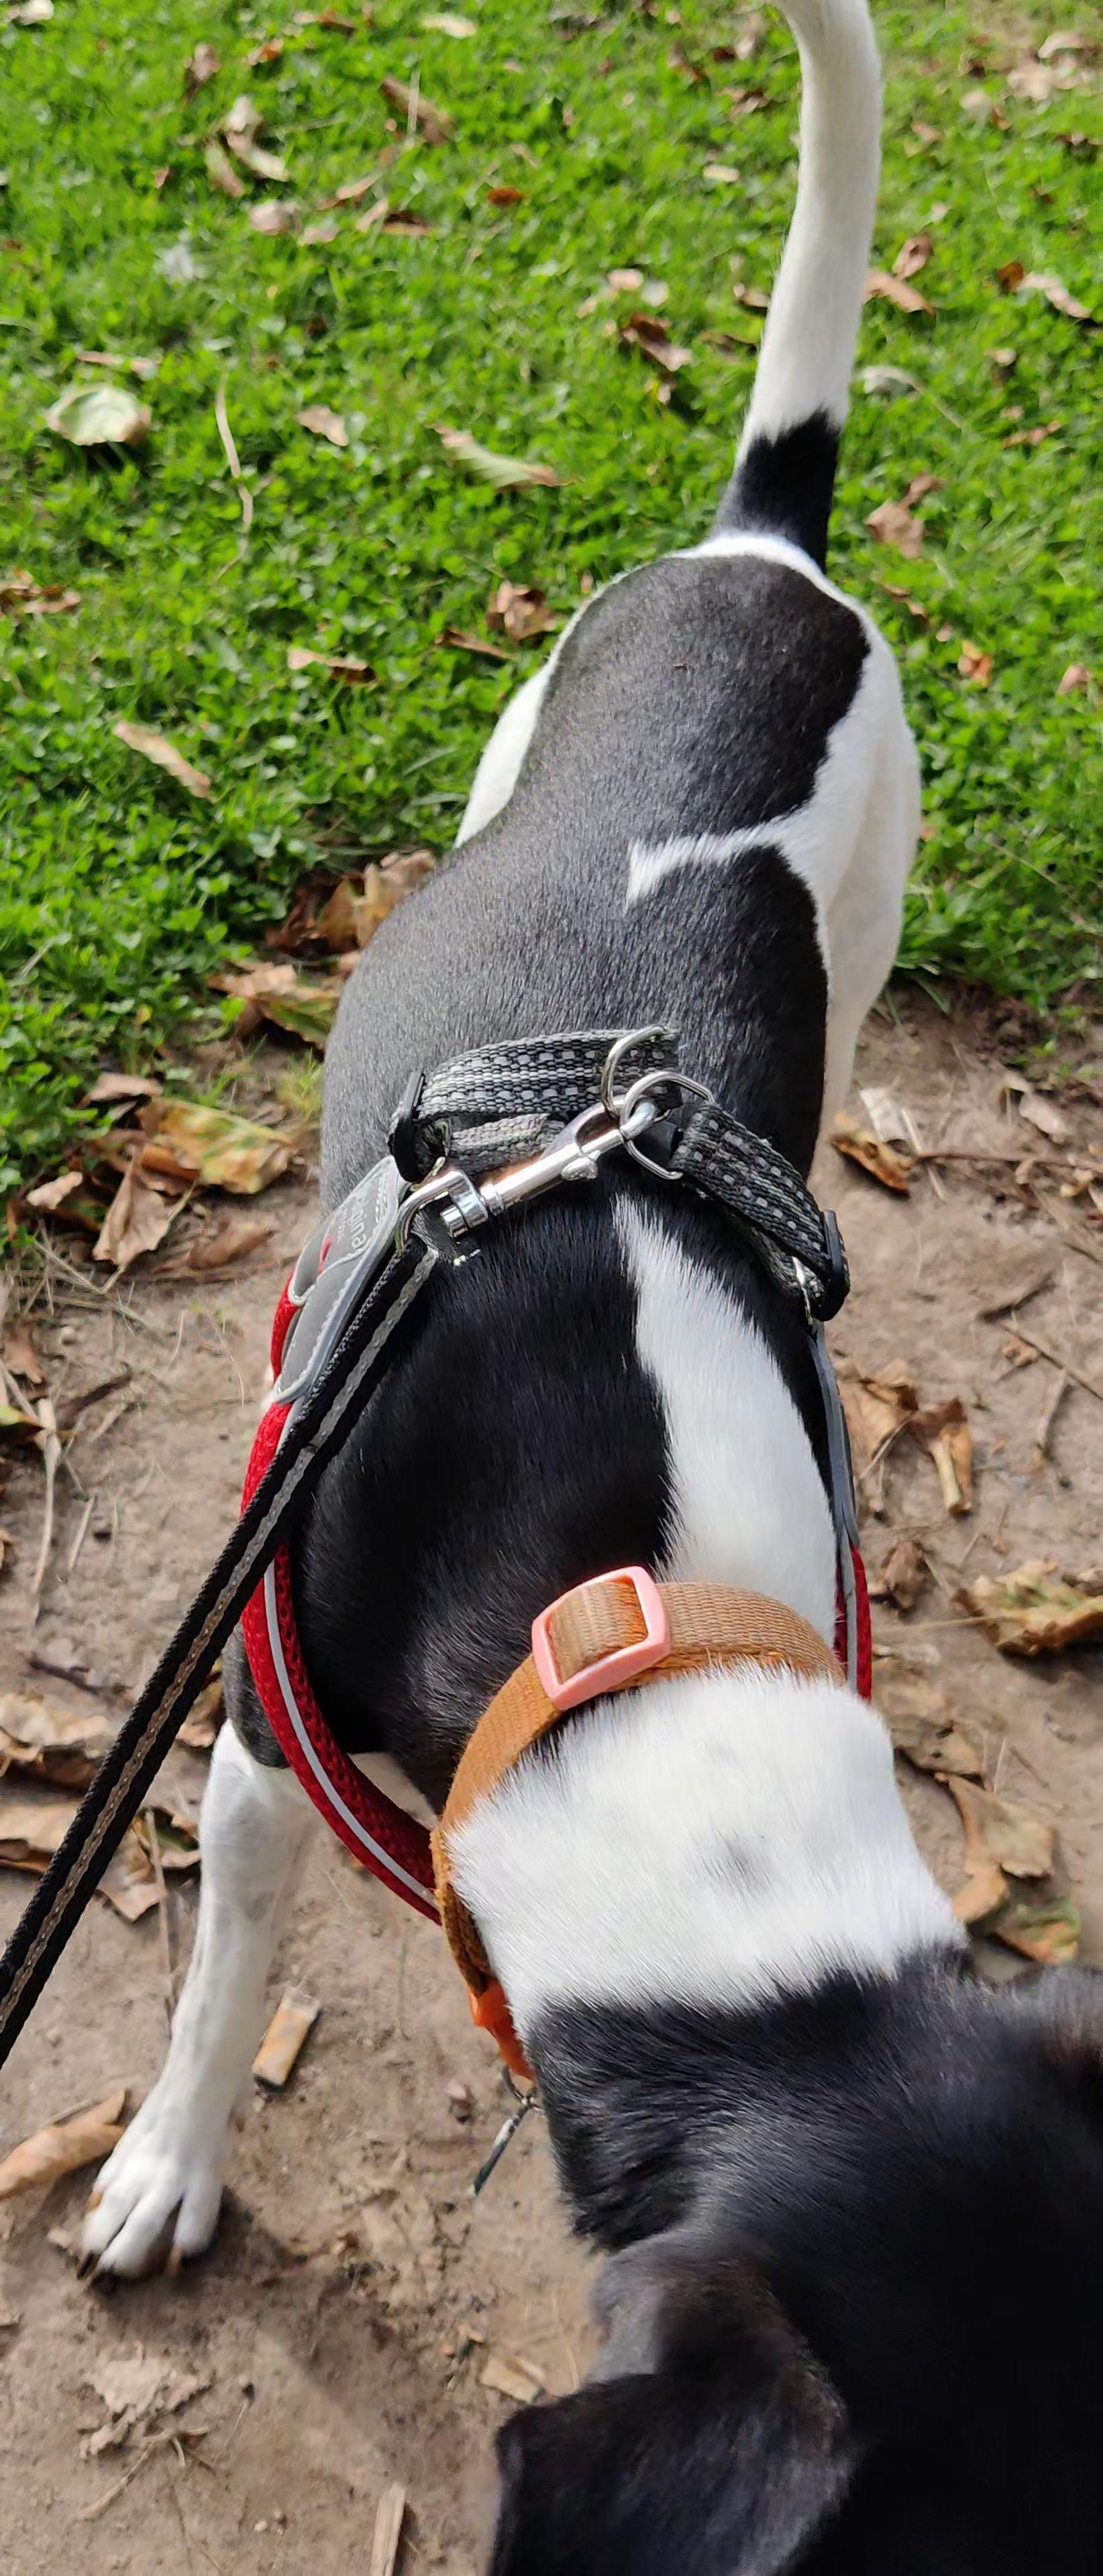Dog: (62, 0, 1103, 2576)
